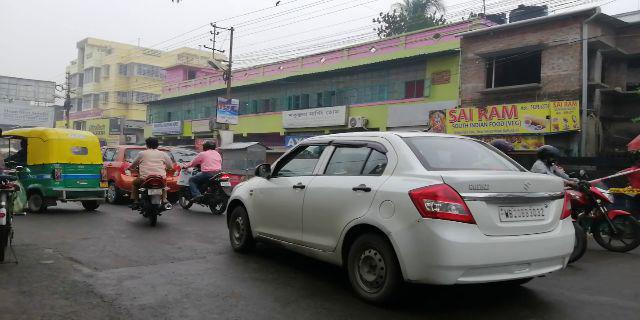Autorickshaw: (13, 125, 103, 206)
Car: (227, 132, 579, 300), (99, 144, 177, 206)
Motorbike: (128, 139, 173, 220), (180, 138, 227, 213)
